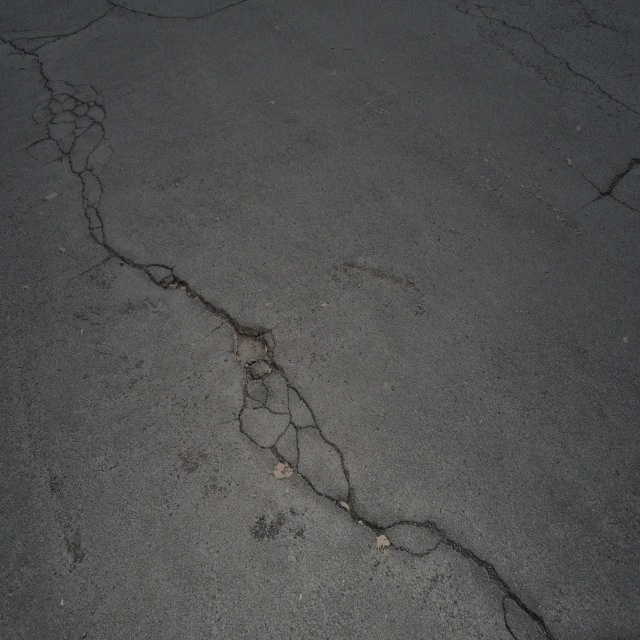pothole: (228, 324, 279, 372)
